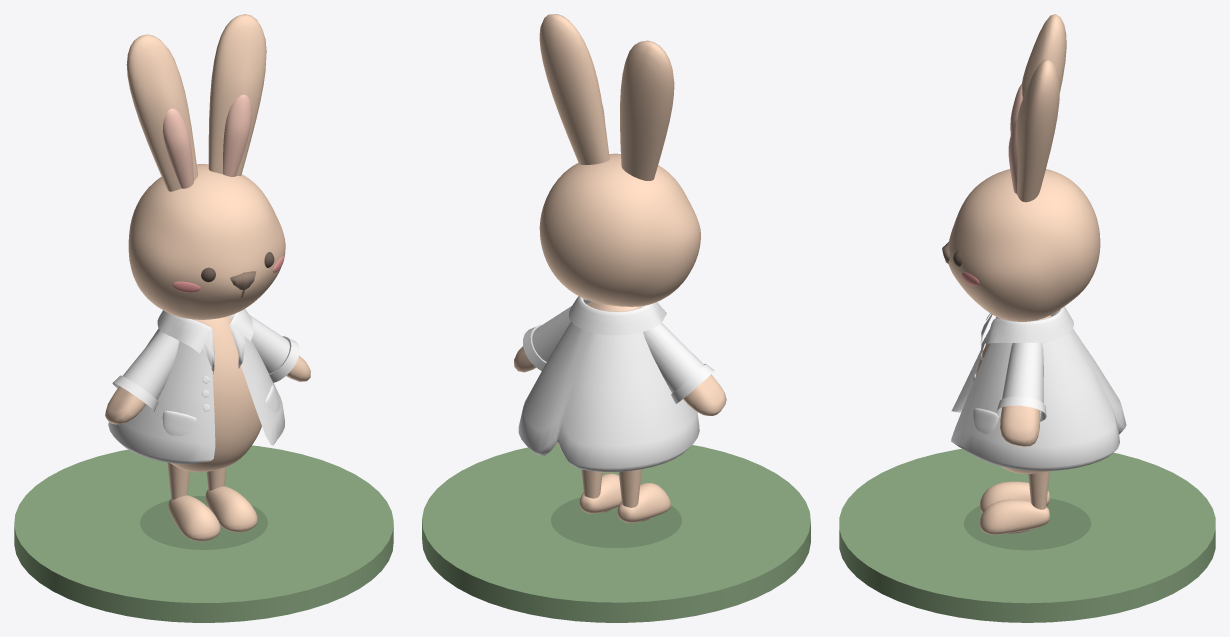
Rendered from bunny_doctor.glb.
3 views of the same model, side by side, from view 1: azimuth 30°, elevation 25°; view 2: azimuth 150°, elevation 25°; view 3: azimuth 270°, elevation 25° (orthographic). The views are drawn at different scales.
Visible parts, largest first — view 1: floor, head, tee, BODY, pasted__pCube3, pCube3, t_l, t_head, pasted__pasted__pCube4, pasted__foot, pasted__pCube4, foot (+2 smaller); view 2: floor, head, tee, pasted__pCube3, pCube3, t_l, t_head, BODY, pasted__foot, foot, pasted__leg; view 3: floor, head, tee, pasted__pCube3, t_l, t_head, foot, pCube3, BODY, pasted__foot, leg, pCube6.
Boxes of the visible parts, x1,y1,x2,y2 form: floor: (14,445,393,622); head: (128,164,285,319); tee: (108,314,284,464); BODY: (105,316,310,472); pasted__pCube3: (208,14,266,175); pCube3: (126,34,197,191); t_l: (112,314,299,411); t_head: (157,309,253,374); pasted__pasted__pCube4: (223,94,251,176); pasted__foot: (168,495,220,541); pasted__pCube4: (163,108,193,188); foot: (205,486,257,532); floor: (422,443,810,622); head: (539,153,700,306); tee: (518,299,699,471); pasted__pCube3: (539,14,609,164); pCube3: (620,40,674,180); t_l: (523,300,714,403); t_head: (569,296,666,335); BODY: (514,301,726,472); pasted__foot: (617,482,670,522); foot: (579,473,621,513); pasted__leg: (618,469,641,507); floor: (839,449,1215,622); head: (948,169,1100,321); tee: (951,311,1126,470); pasted__pCube3: (1016,59,1059,202); t_l: (996,342,1046,421); t_head: (980,306,1073,360); foot: (979,499,1049,534); pCube3: (1022,14,1066,98); BODY: (976,315,1052,473); pasted__foot: (979,481,1049,512); leg: (1028,471,1049,509); pCube6: (973,373,999,433).
Size of the model in its own units: 14.92 by 22.07 by 14.89.
